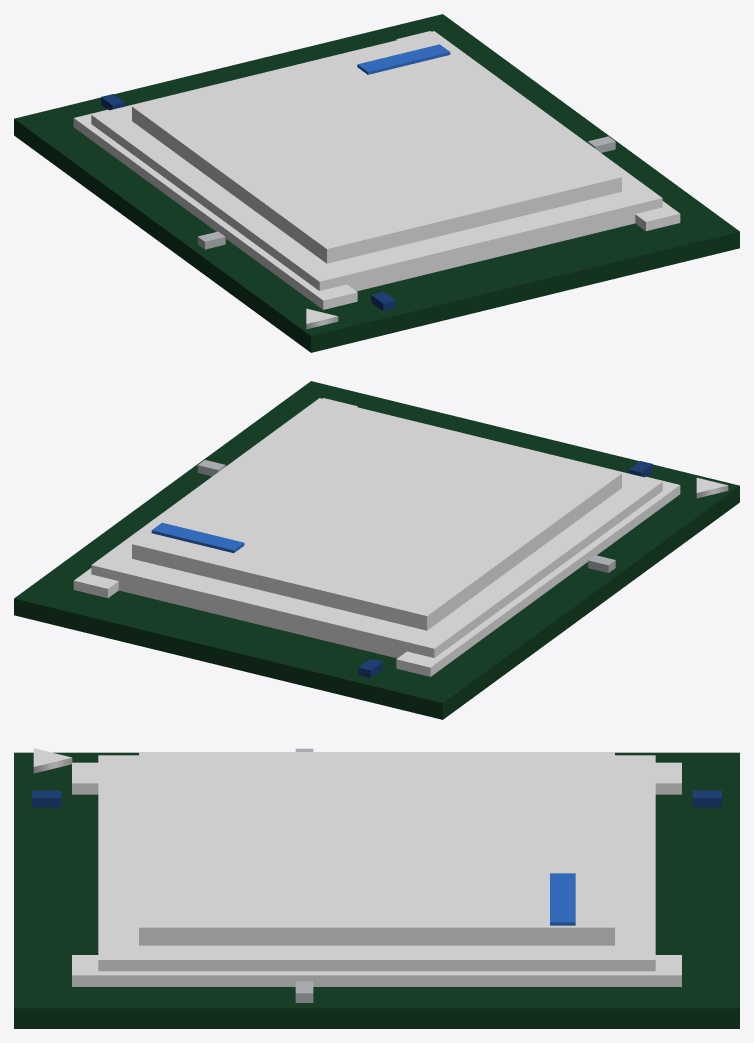
Rendered from hw_cpu_i7_12700.glb.
The picture shows the model from 3 angles, top to bottom: view 1: azimuth 30°, elevation 25°; view 2: azimuth 150°, elevation 25°; view 3: azimuth 270°, elevation 25°; orthographic projection. The views are drawn at different scales.
Visible parts, largest first — view 1: Body; view 2: Body; view 3: Body.
Part boxes in pixels (left/top/right/bottom): Body: left=14, top=14, right=739, bottom=352; Body: left=14, top=381, right=739, bottom=719; Body: left=14, top=748, right=739, bottom=1028.
Bounding box in the file's own units: 0.0375 × 0.00467 × 0.045.
